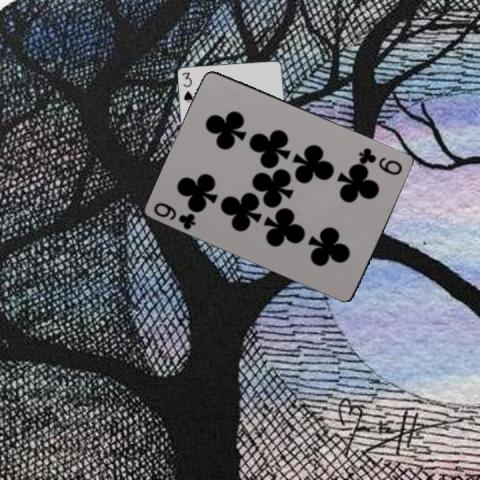3s: (180, 69, 194, 105)
9c: (356, 144, 405, 176), (151, 198, 198, 230)
